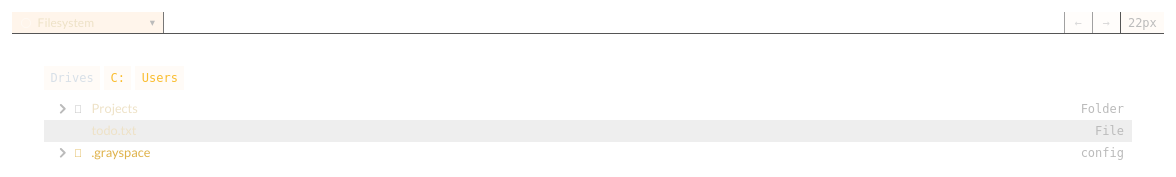
Scenario: FilesystemPanel › opens folders in place when already inside the same workspace
Double-click the button "Projects Folder" at (115, 109), box [44,98,1132,120]
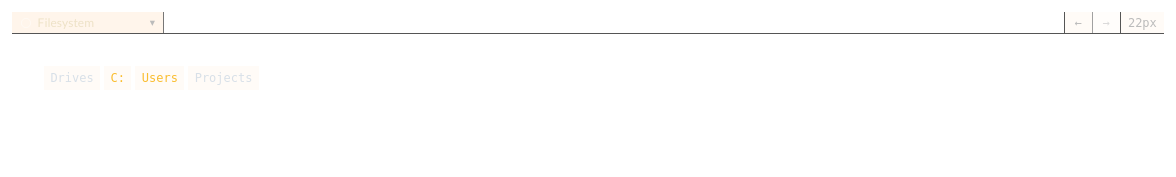
Expected: the button "todo.txt" is gone
